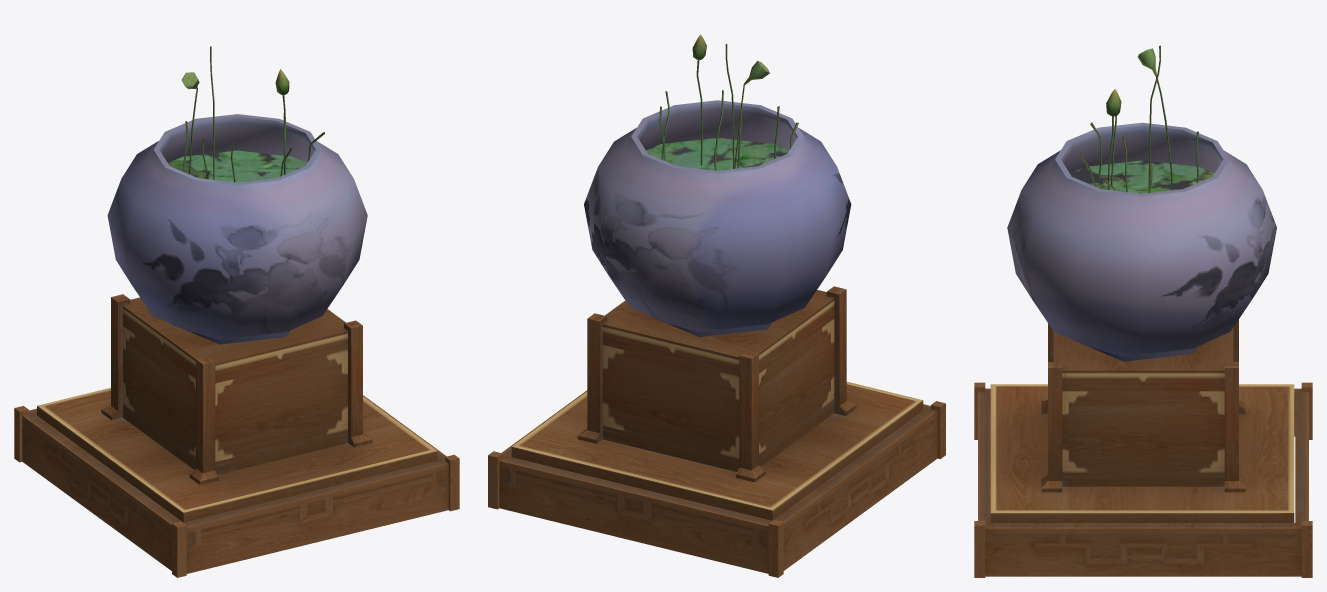
Rendered from Furniture_01_b.FBX.
The picture shows the model from 3 angles, left to right: view 1: azimuth 30°, elevation 25°; view 2: azimuth 150°, elevation 25°; view 3: azimuth 270°, elevation 25°; orthographic projection. The views are drawn at different scales.
Visible parts, largest first — view 1: Furniture_01_b; view 2: Furniture_01_b; view 3: Furniture_01_b.
Boxes of the visible parts, left/top/right/bottom form: Furniture_01_b: left=14, top=46, right=459, bottom=577; Furniture_01_b: left=488, top=34, right=945, bottom=577; Furniture_01_b: left=974, top=45, right=1312, bottom=577.
Size of the model in its own units: 61.25 by 95.57 by 61.27.
